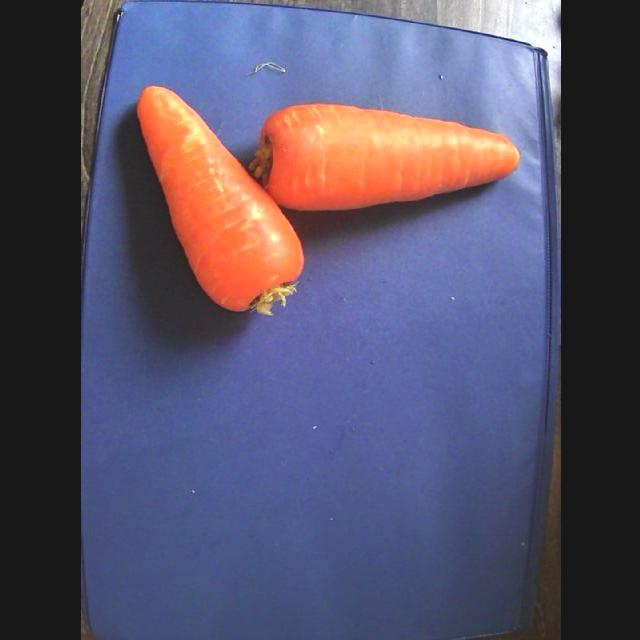zanahoria: (137, 88, 303, 315), (249, 104, 519, 211)
